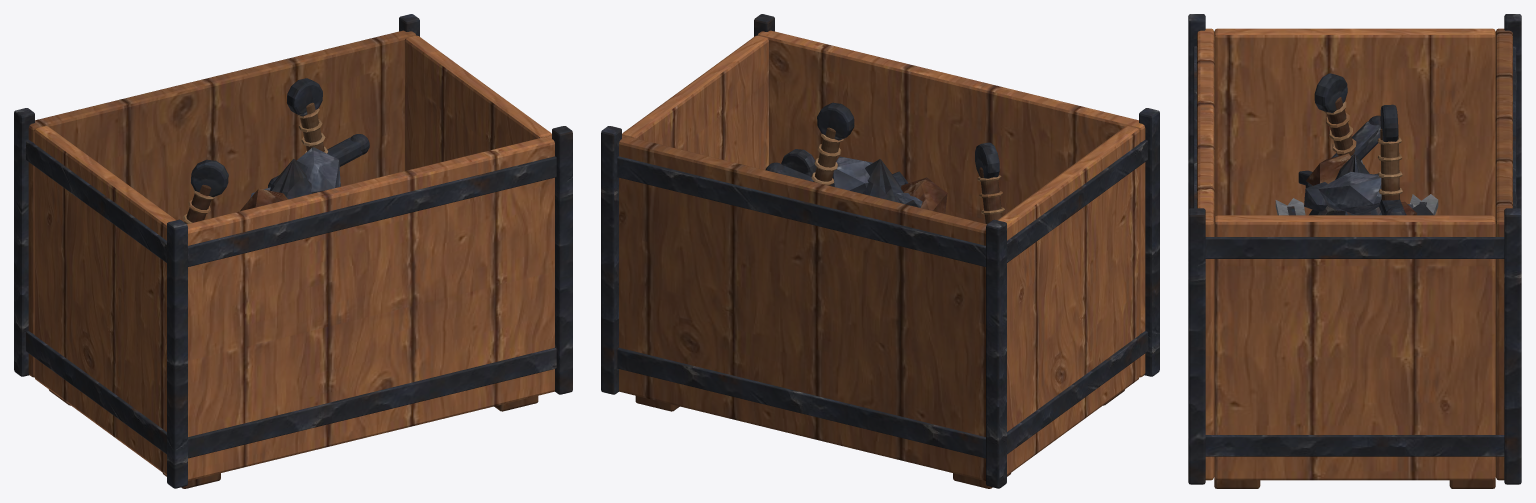
File: ef_scrap_bin.glb
3 renders of one model, left to right at view 1: azimuth 30°, elevation 25°; view 2: azimuth 150°, elevation 25°; view 3: azimuth 270°, elevation 25°, orthographic. The views are drawn at different scales.
Visible parts, largest first — view 1: model; view 2: model; view 3: model.
Boxes of the visible parts, box(x1,y1,x2,y2) form: model: box(14, 14, 572, 488); model: box(601, 14, 1159, 488); model: box(1188, 14, 1521, 488).
Bounding box in the file's own units: 0.83 × 0.6005 × 0.58.
Materials: 10 (10 with a texture image).
